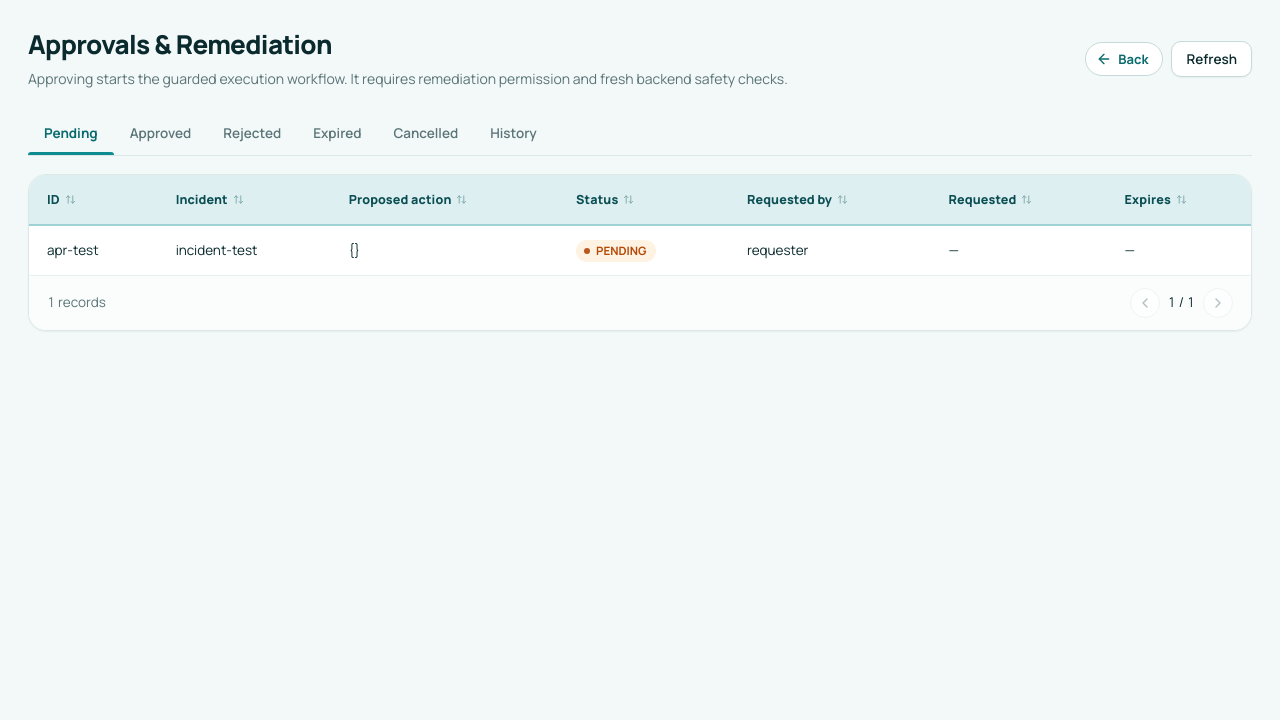
operator authentication UI › shows decision controls only when remediation permission is present
What coordinates should you click on to do the following:
click the text "apr-test"
I would click on:
 (93, 250)
Its box is [29,225,158,275].
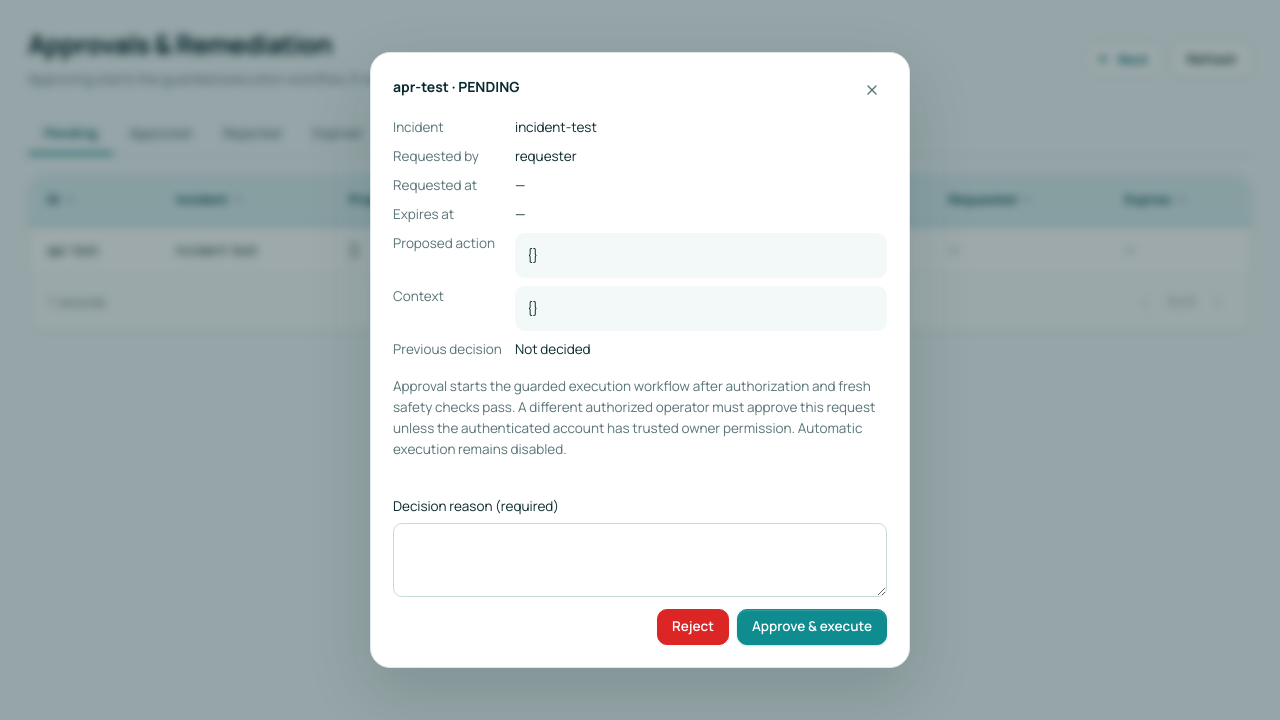
expect the dialog is shown: met, box [370,52,910,668]
expect the button "Approve & execute" is shown: met, box [737,608,887,644]
